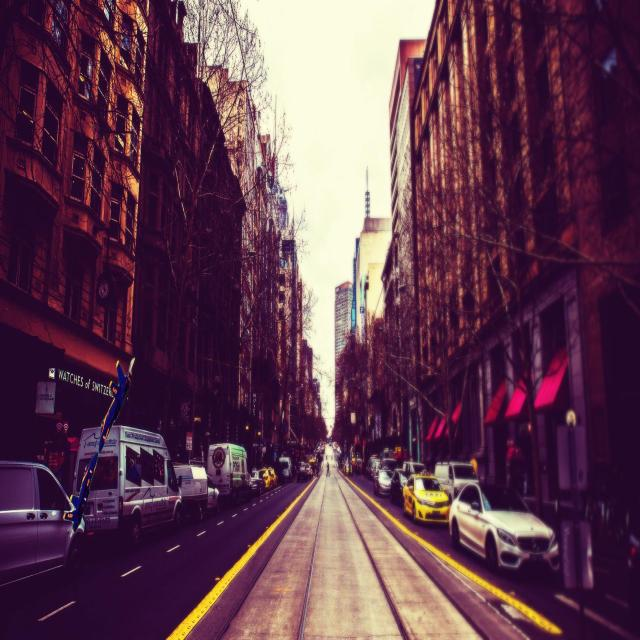airplane: (98, 354, 136, 452), (64, 450, 99, 540)
